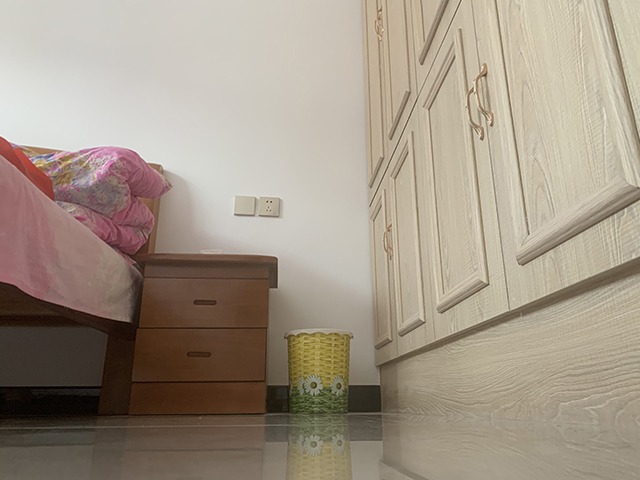bed: (1, 135, 174, 417)
cabinet: (360, 1, 640, 426), (129, 253, 279, 416)
trashcan: (283, 328, 355, 415)
